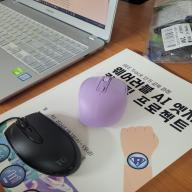mouse: (2, 111, 84, 177), (76, 75, 128, 127)
